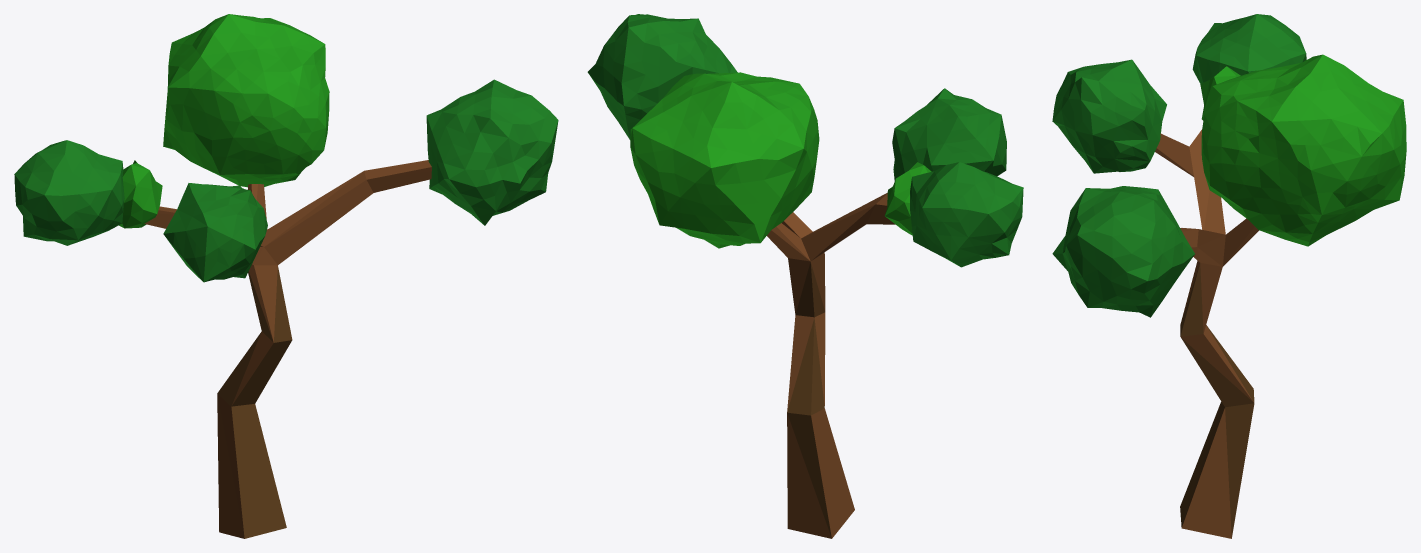
The model's file is treetwo.fbx.
3 renders of one model, left to right at view 1: azimuth 30°, elevation 25°; view 2: azimuth 150°, elevation 25°; view 3: azimuth 270°, elevation 25°, orthographic. The views are drawn at different scales.
Parts seen in each view (by area): view 1: Cube; view 2: Cube; view 3: Cube.
Part boxes in pixels (x1,y1,x2,y2): Cube: (14, 14, 558, 538); Cube: (587, 14, 1023, 538); Cube: (1052, 14, 1406, 538).
Size of the model in its own units: 880 by 844 by 553.
